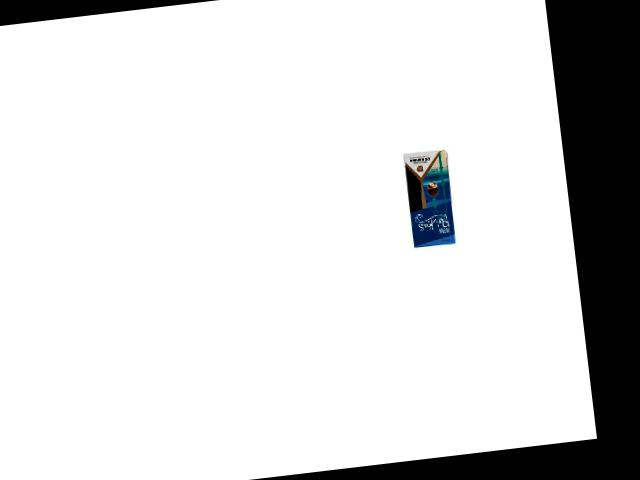chocolate: (400, 146, 458, 250)
